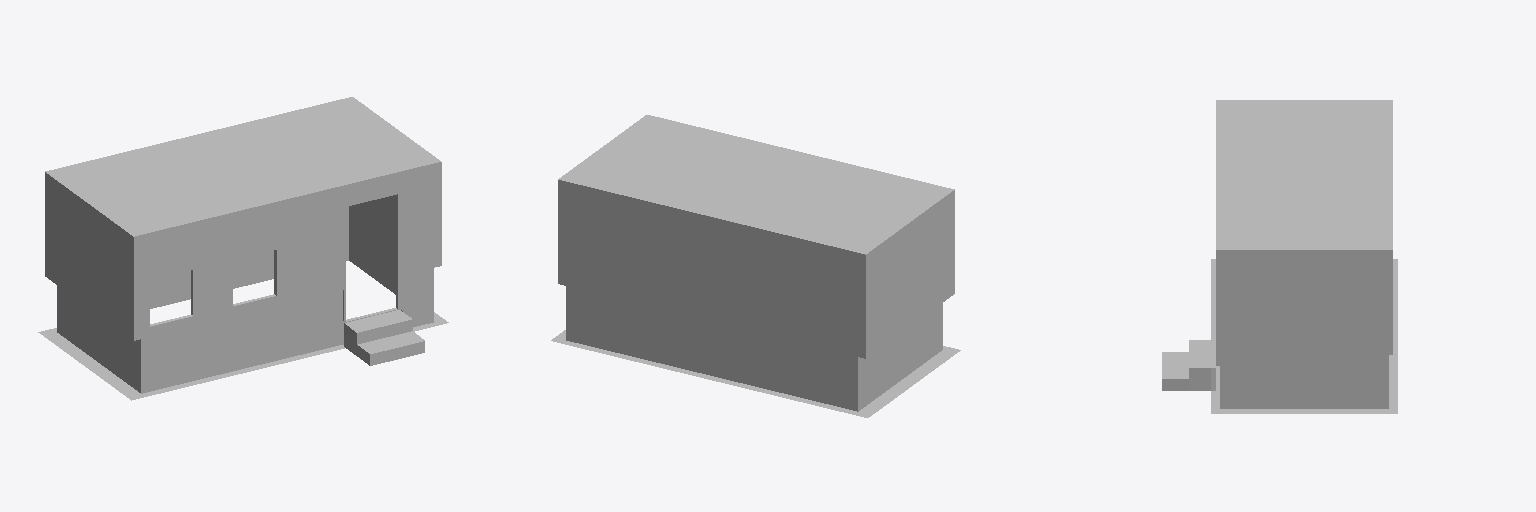
The model's file is walls_1.obj.
3 renders of one model, left to right at view 1: azimuth 30°, elevation 25°; view 2: azimuth 150°, elevation 25°; view 3: azimuth 270°, elevation 25°, orthographic.
Parts seen in each view (by area): view 1: Cube; view 2: Cube; view 3: Cube.
Boxes of the visible parts, x1=… form: Cube: x1=38, y1=97, x2=448, y2=400; Cube: x1=551, y1=115, x2=960, y2=417; Cube: x1=1162, y1=100, x2=1397, y2=413.
Bounding box in the file's own units: 12.38 × 6 × 7.95.